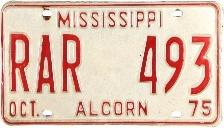3: (187, 34, 215, 96)
4: (137, 33, 160, 95)
9: (162, 35, 186, 94)
A: (34, 33, 57, 95)
R: (8, 32, 33, 93), (60, 32, 84, 94)
